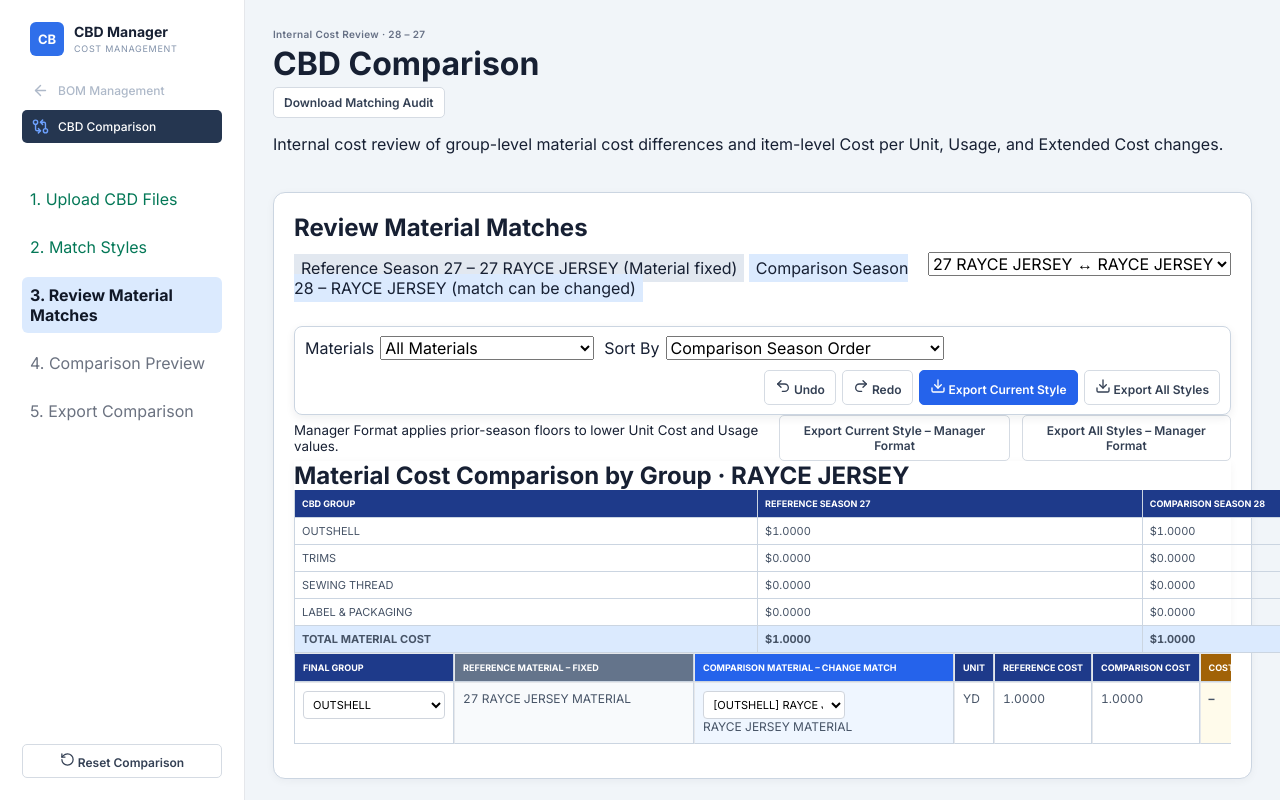
Test: CBD Comparison navigation and controls › exports the newly selected style pair independent of the material filter
Select "Changed Materials Only" in the dropdown named "Material Filter": (487, 348) 380,336 -> 594,360
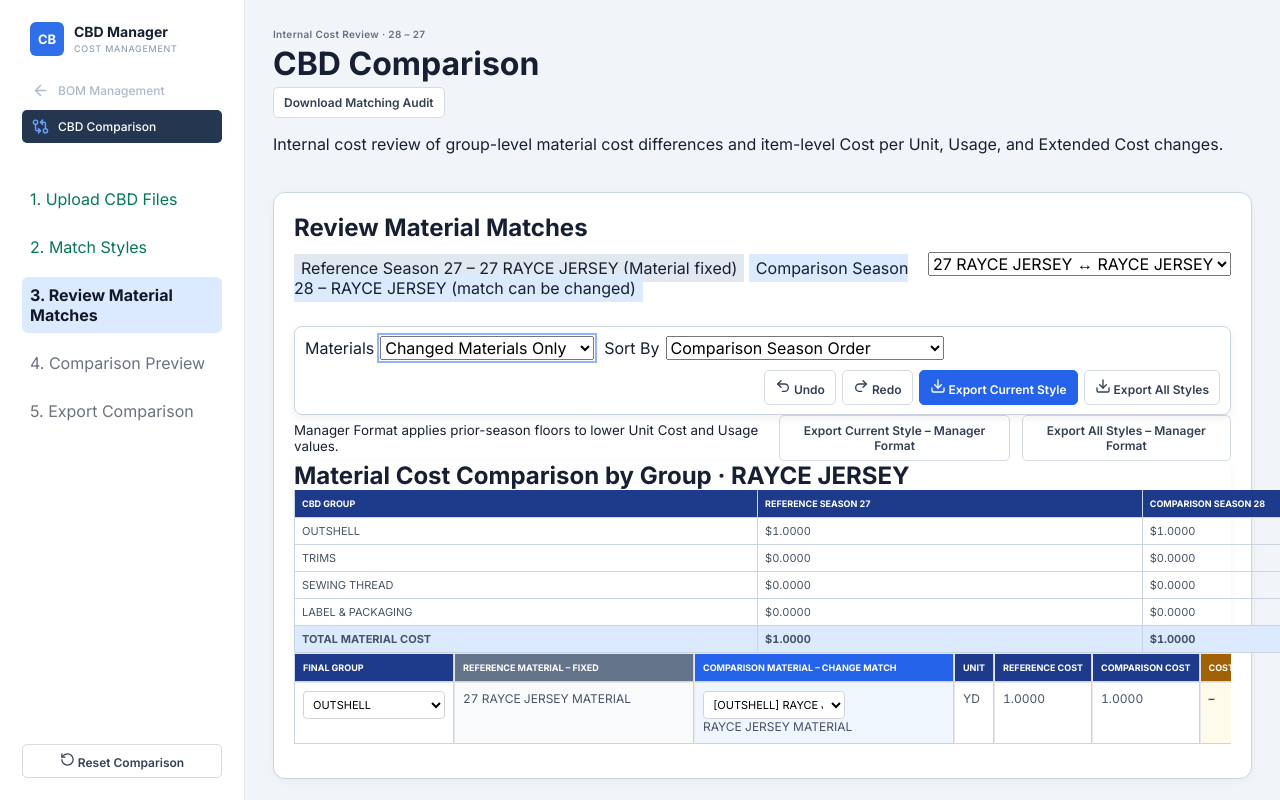
Select "27 F-16 JERSEY ↔ F-16 JERSEY" in the dropdown named "Selected style comparison": (1080, 264) 928,252 -> 1231,276
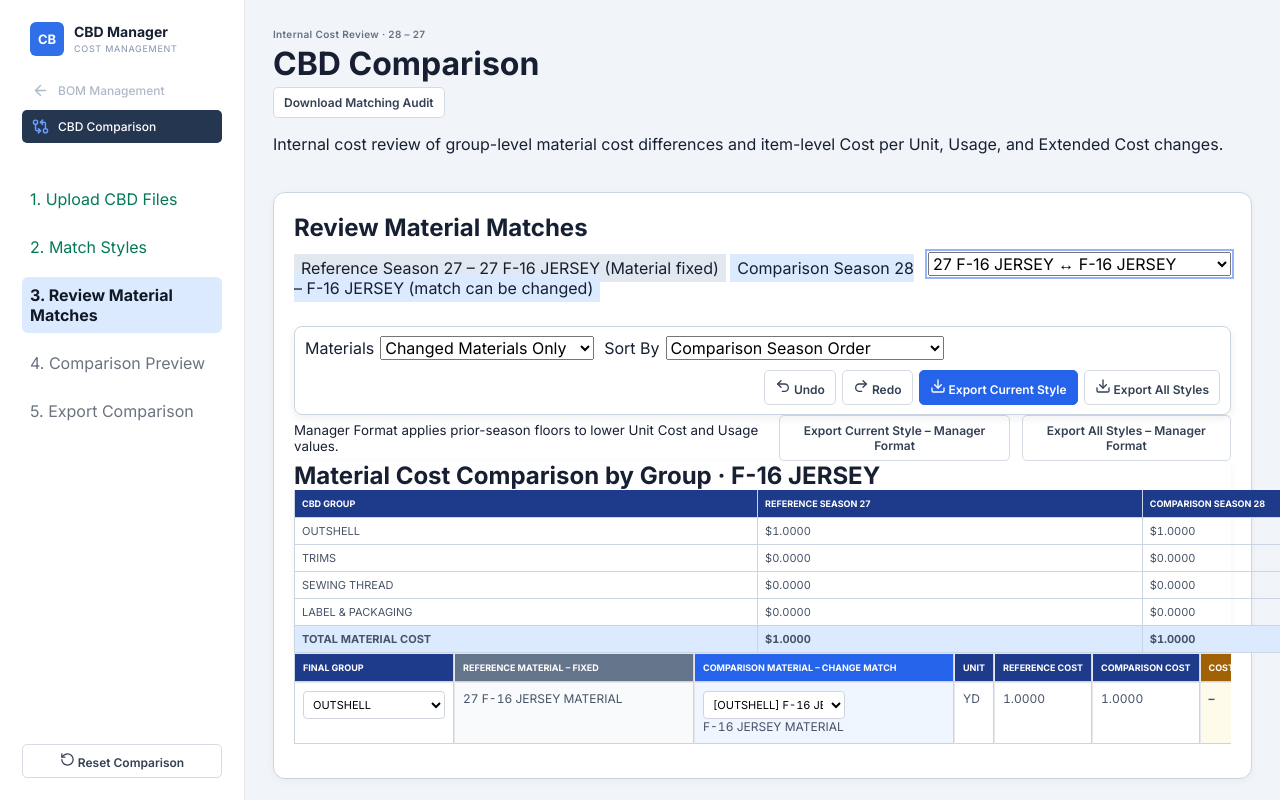
Click the button "Export Current Style": (998, 388) 918,370 -> 1078,405
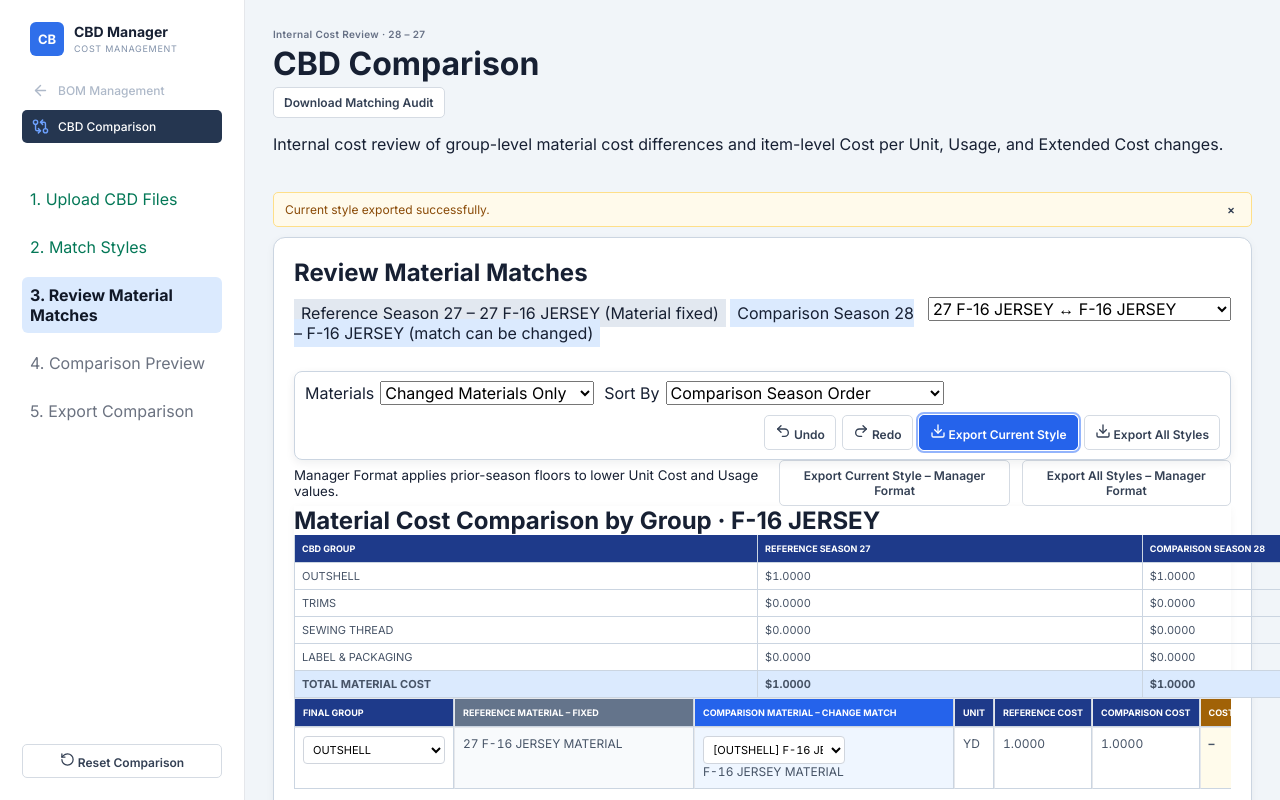
Expected: the text "Current style exported successfully." is shown, 285,202 -> 490,217
Click the button "Export All Styles": (1152, 432) 1084,415 -> 1220,450
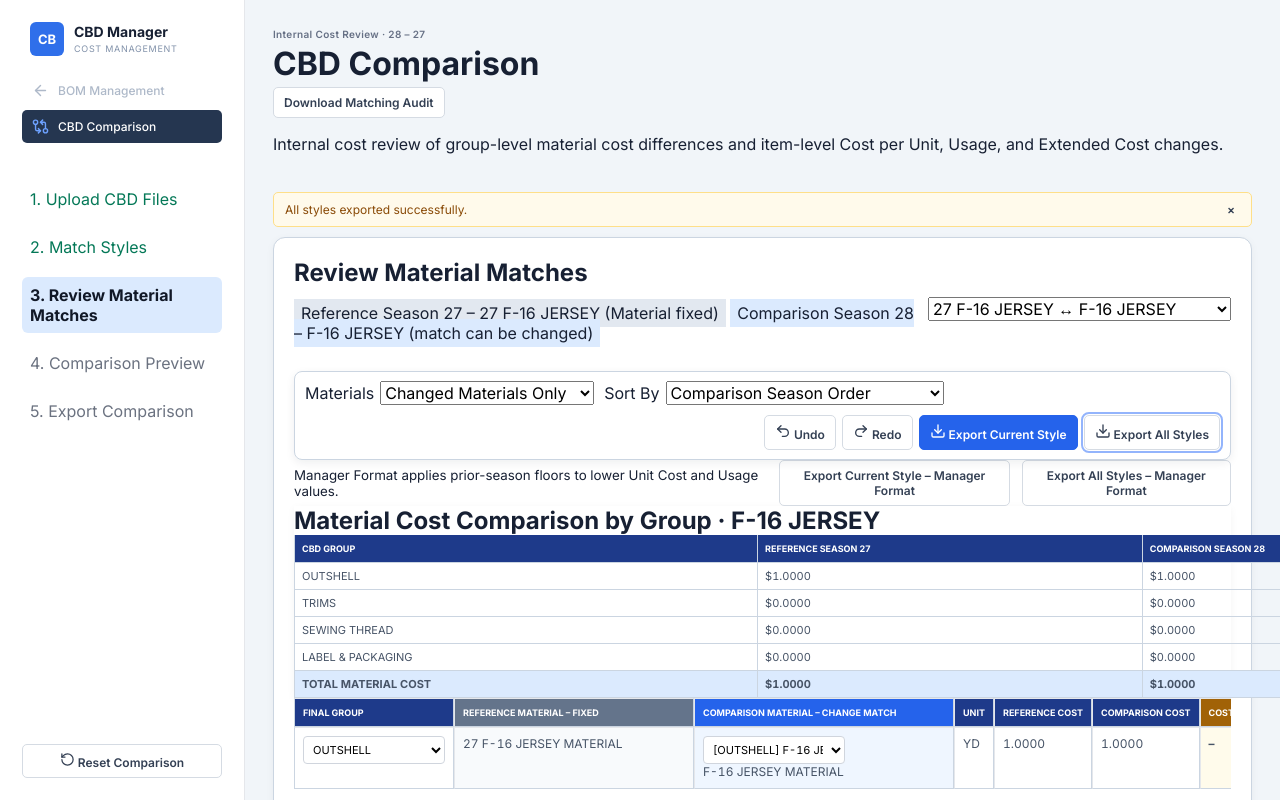
Expected: the text "All styles exported successfully." is shown, 285,202 -> 467,217
